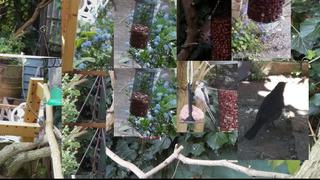blackbird: (244, 81, 289, 140)
long tailed tit: (192, 81, 218, 127)
mouse: (199, 20, 212, 45)
